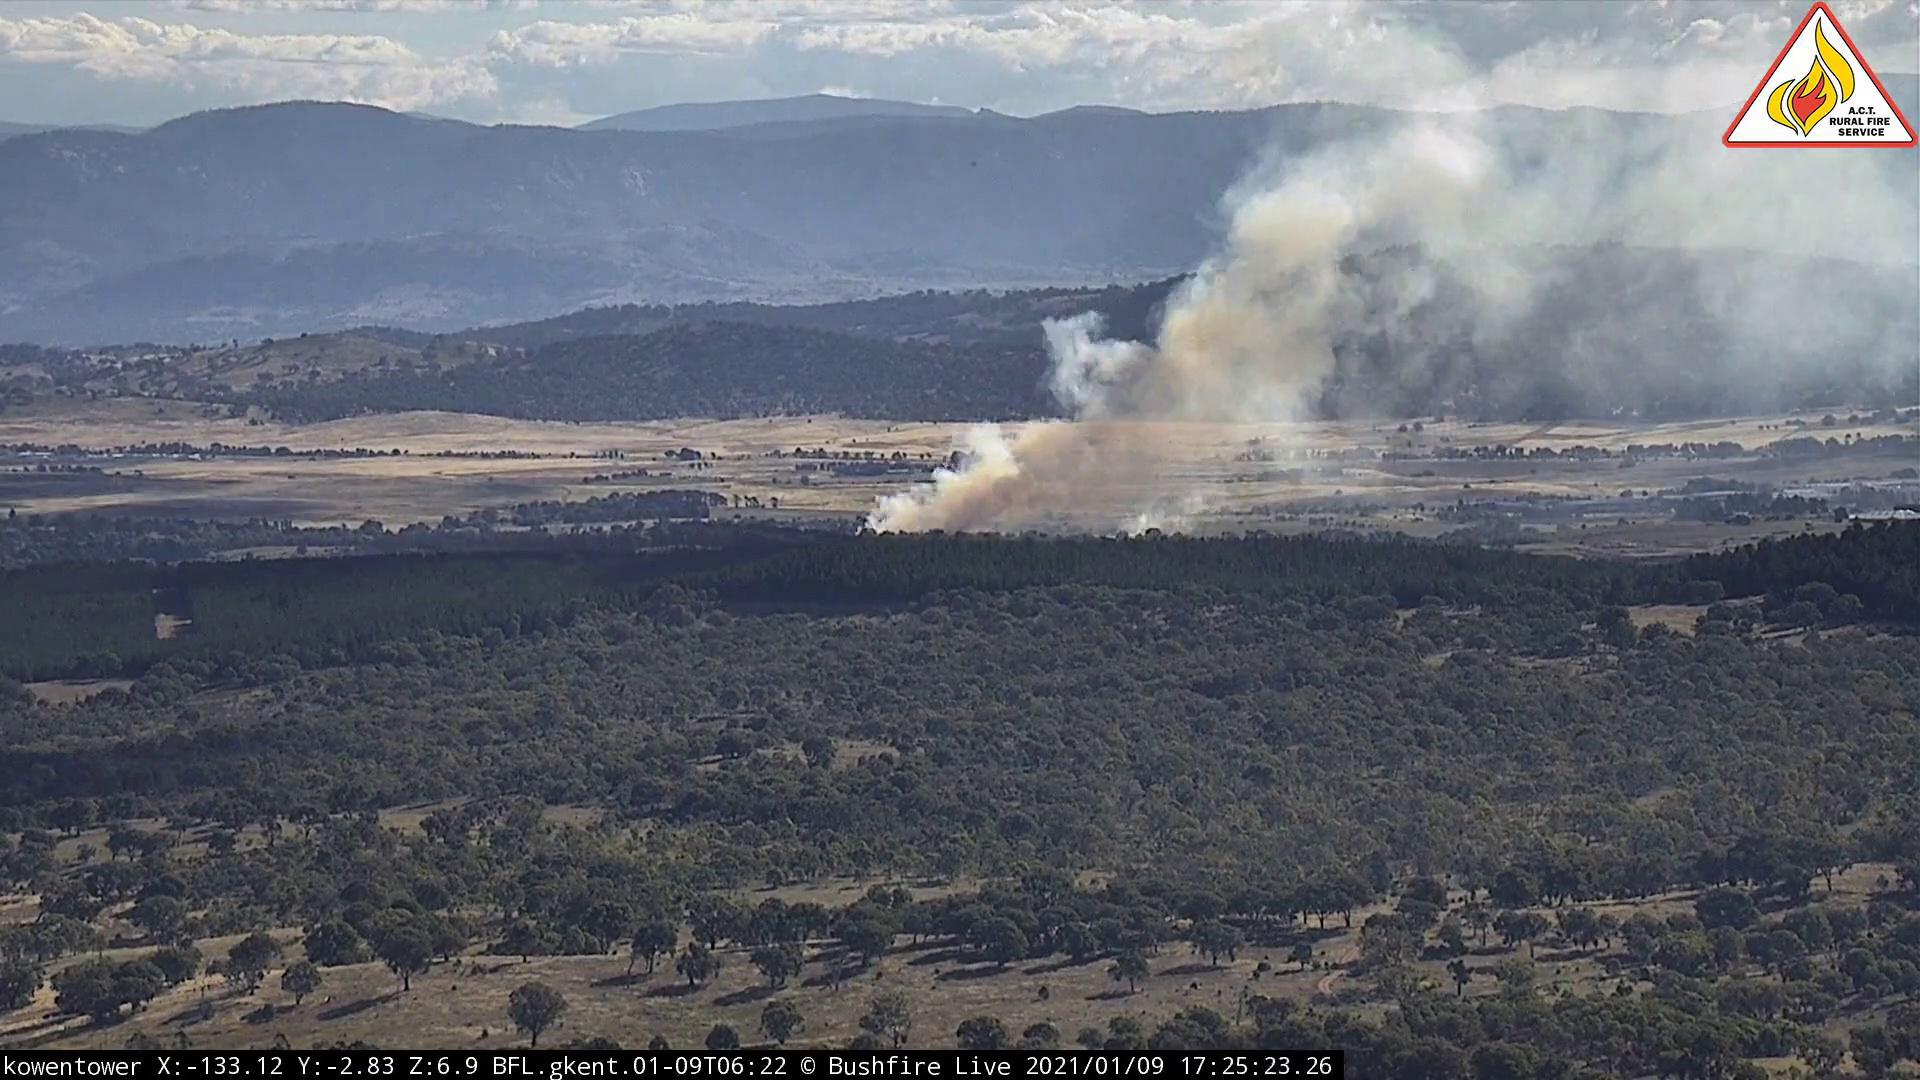Smoke: (853, 44, 1720, 546)
